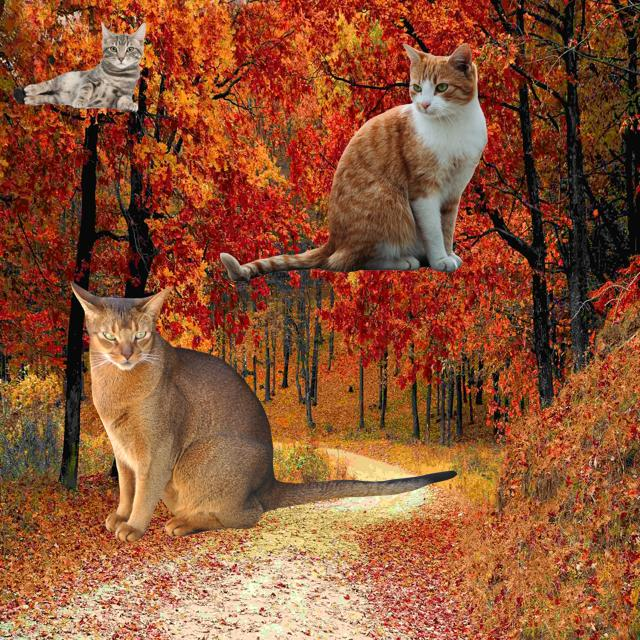cat: (72, 283, 455, 540), (222, 46, 489, 279), (14, 21, 148, 113)
